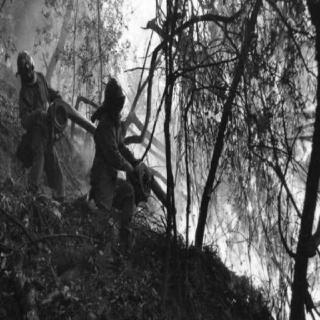Fire: (157, 2, 317, 318)
